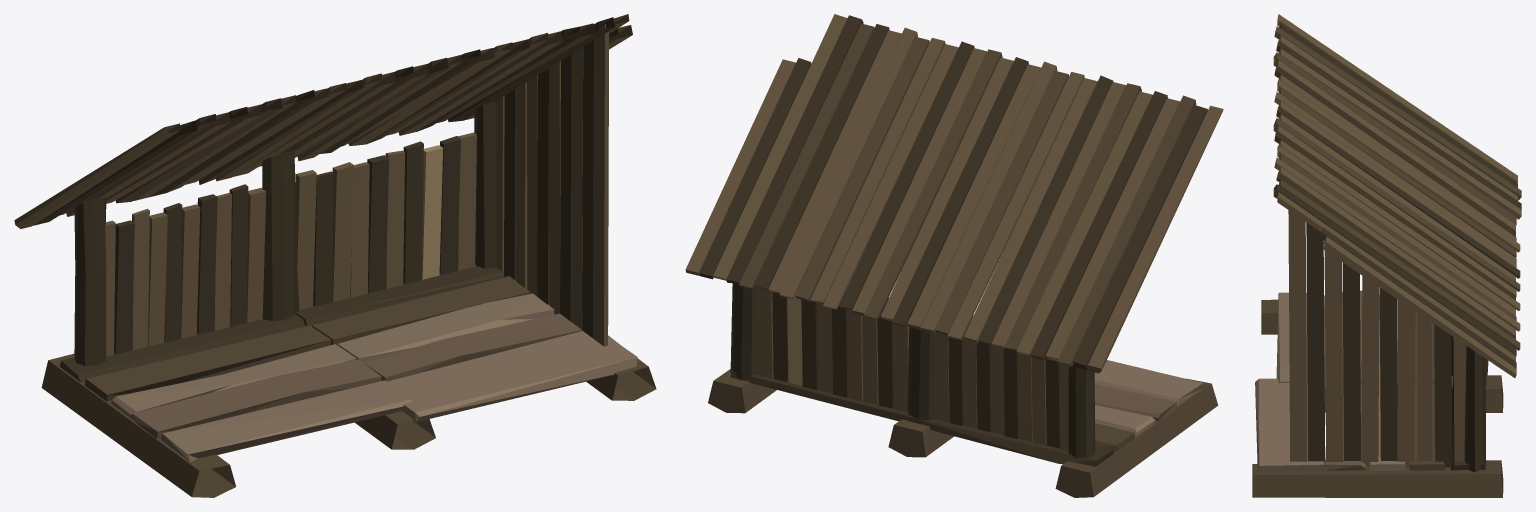
File: EA03_Village_Balcony_R_01a.glb
3 renders of one model, left to right at view 1: azimuth 30°, elevation 25°; view 2: azimuth 150°, elevation 25°; view 3: azimuth 270°, elevation 25°, orthographic. The views are drawn at different scales.
Visible parts, largest first — view 1: EA03_Village_Balcony_R_01a; view 2: EA03_Village_Balcony_R_01a; view 3: EA03_Village_Balcony_R_01a.
Boxes of the visible parts, x1=… form: EA03_Village_Balcony_R_01a: x1=14, y1=14, x2=656, y2=497; EA03_Village_Balcony_R_01a: x1=685, y1=14, x2=1223, y2=497; EA03_Village_Balcony_R_01a: x1=1252, y1=14, x2=1521, y2=497.
Bounding box in the file's own units: 4.68 × 3.37 × 2.72.
1 material, 1 textured.
